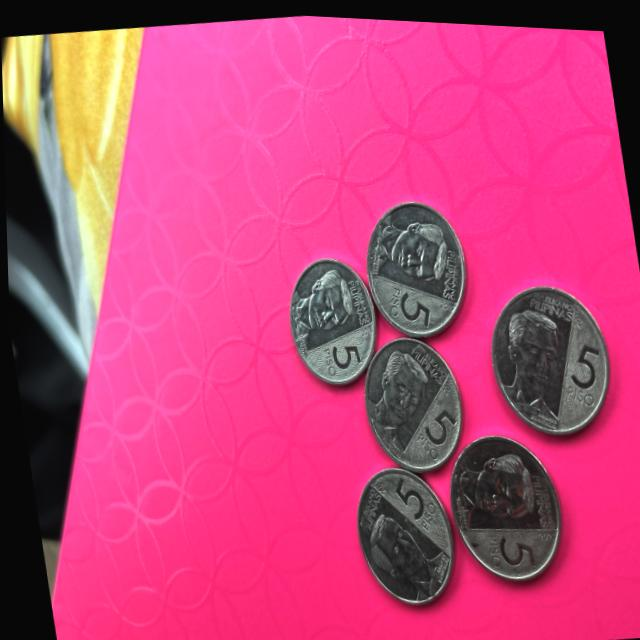5_New_Front: (551, 333, 606, 411), (408, 404, 458, 466), (310, 321, 363, 379), (476, 519, 534, 571), (383, 473, 434, 530), (384, 275, 435, 330)
